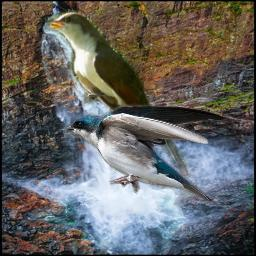Cuckoo: (45, 8, 191, 176)
Swallow: (64, 103, 227, 203)
